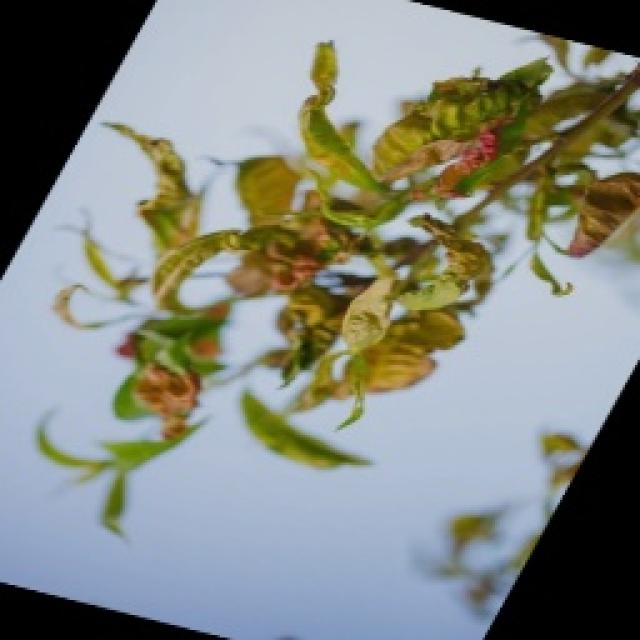Chlorosis: (32, 30, 638, 538)
